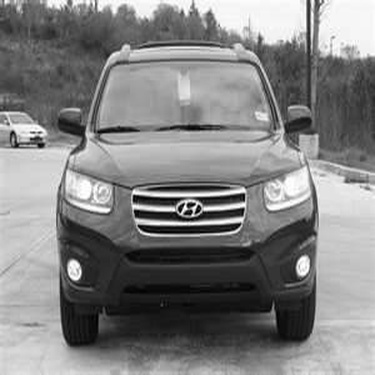car: (49, 39, 324, 342), (1, 110, 51, 152)
